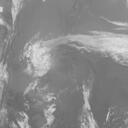cyclone: (50, 48, 101, 92)
